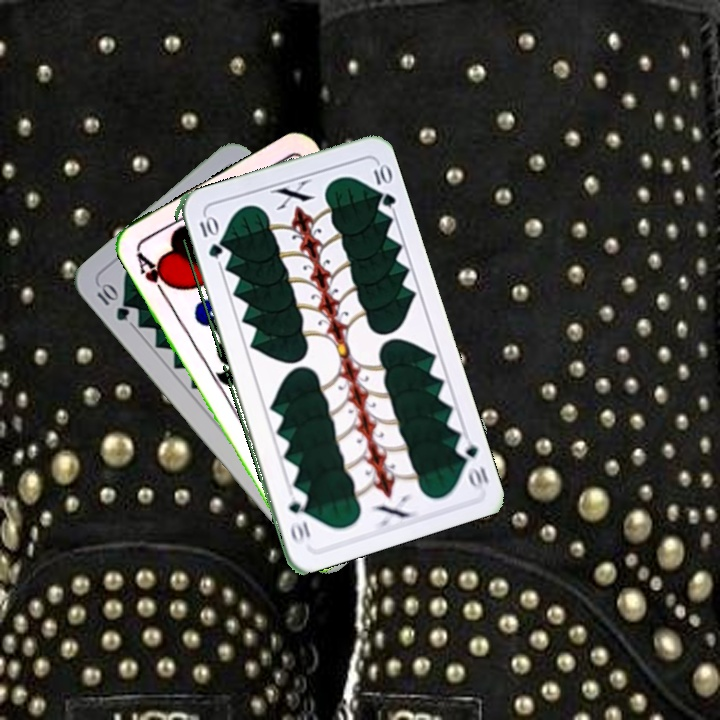G10: (451, 432, 492, 491), (92, 279, 132, 324), (195, 212, 223, 261)
HA: (132, 246, 176, 300)
